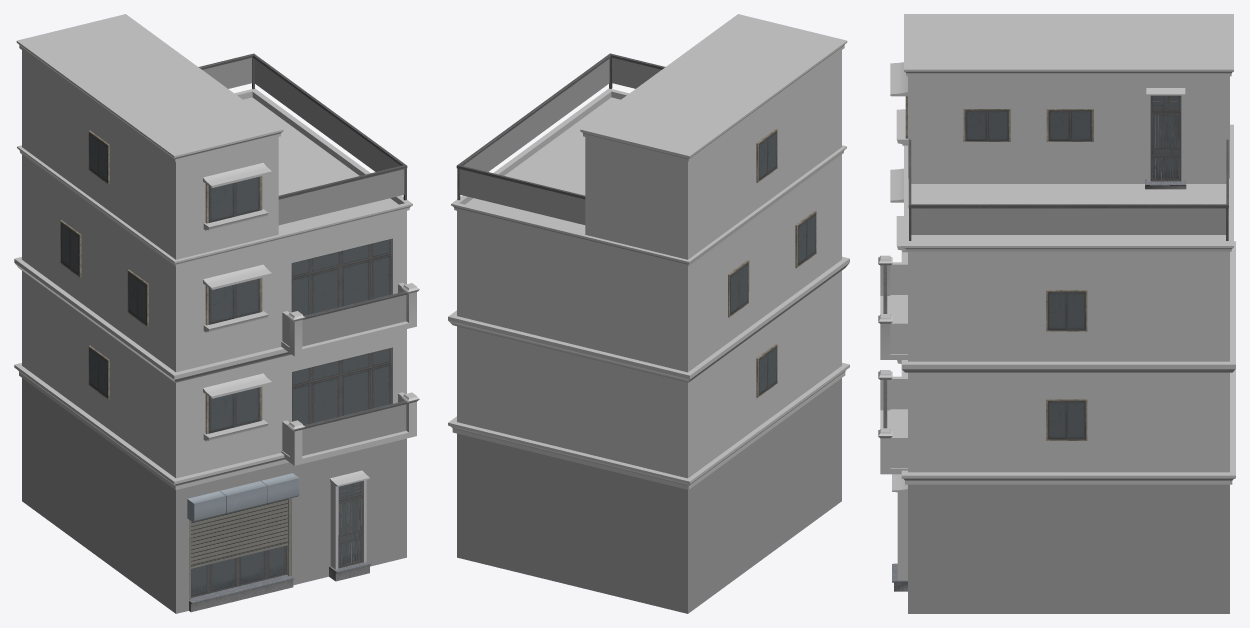
File: SM_House_3HN_03V.fbx
3 views of the same model, side by side, from view 1: azimuth 30°, elevation 25°; view 2: azimuth 150°, elevation 25°; view 3: azimuth 270°, elevation 25° (orthographic). The views are drawn at different scales.
Parts seen in each view (by area): view 1: SM_House, SM_Door_5, SM_Door_3, SM_Door_2, SM_Window_11, AA, SM_Door_4, SM_Window_4, SM_Window_5, SM_Window_1; view 2: SM_House, AA, SM_Window_11; view 3: SM_House, AA, SM_Window_11, SM_Door_1, SM_Window_3, SM_Window_2.
Part boxes in pixels (x1,y1,x2,y2): SM_House: [14, 14, 419, 613]; SM_Door_5: [191, 499, 287, 597]; SM_Door_3: [292, 348, 391, 425]; SM_Door_2: [291, 239, 391, 315]; SM_Window_11: [60, 130, 148, 399]; AA: [14, 257, 291, 382]; SM_Door_4: [338, 481, 363, 568]; SM_Window_4: [205, 386, 262, 434]; SM_Window_5: [205, 176, 262, 223]; SM_Window_1: [205, 278, 262, 325]; SM_House: [448, 14, 849, 613]; AA: [448, 256, 849, 382]; SM_Window_11: [728, 129, 816, 397]; SM_House: [878, 14, 1235, 613]; AA: [901, 241, 1235, 372]; SM_Window_11: [1046, 290, 1087, 440]; SM_Door_1: [1150, 95, 1181, 181]; SM_Window_3: [1046, 109, 1093, 141]; SM_Window_2: [963, 109, 1010, 141].
Bounding box in the file's own units: 9.42 × 17.12 × 11.56.
